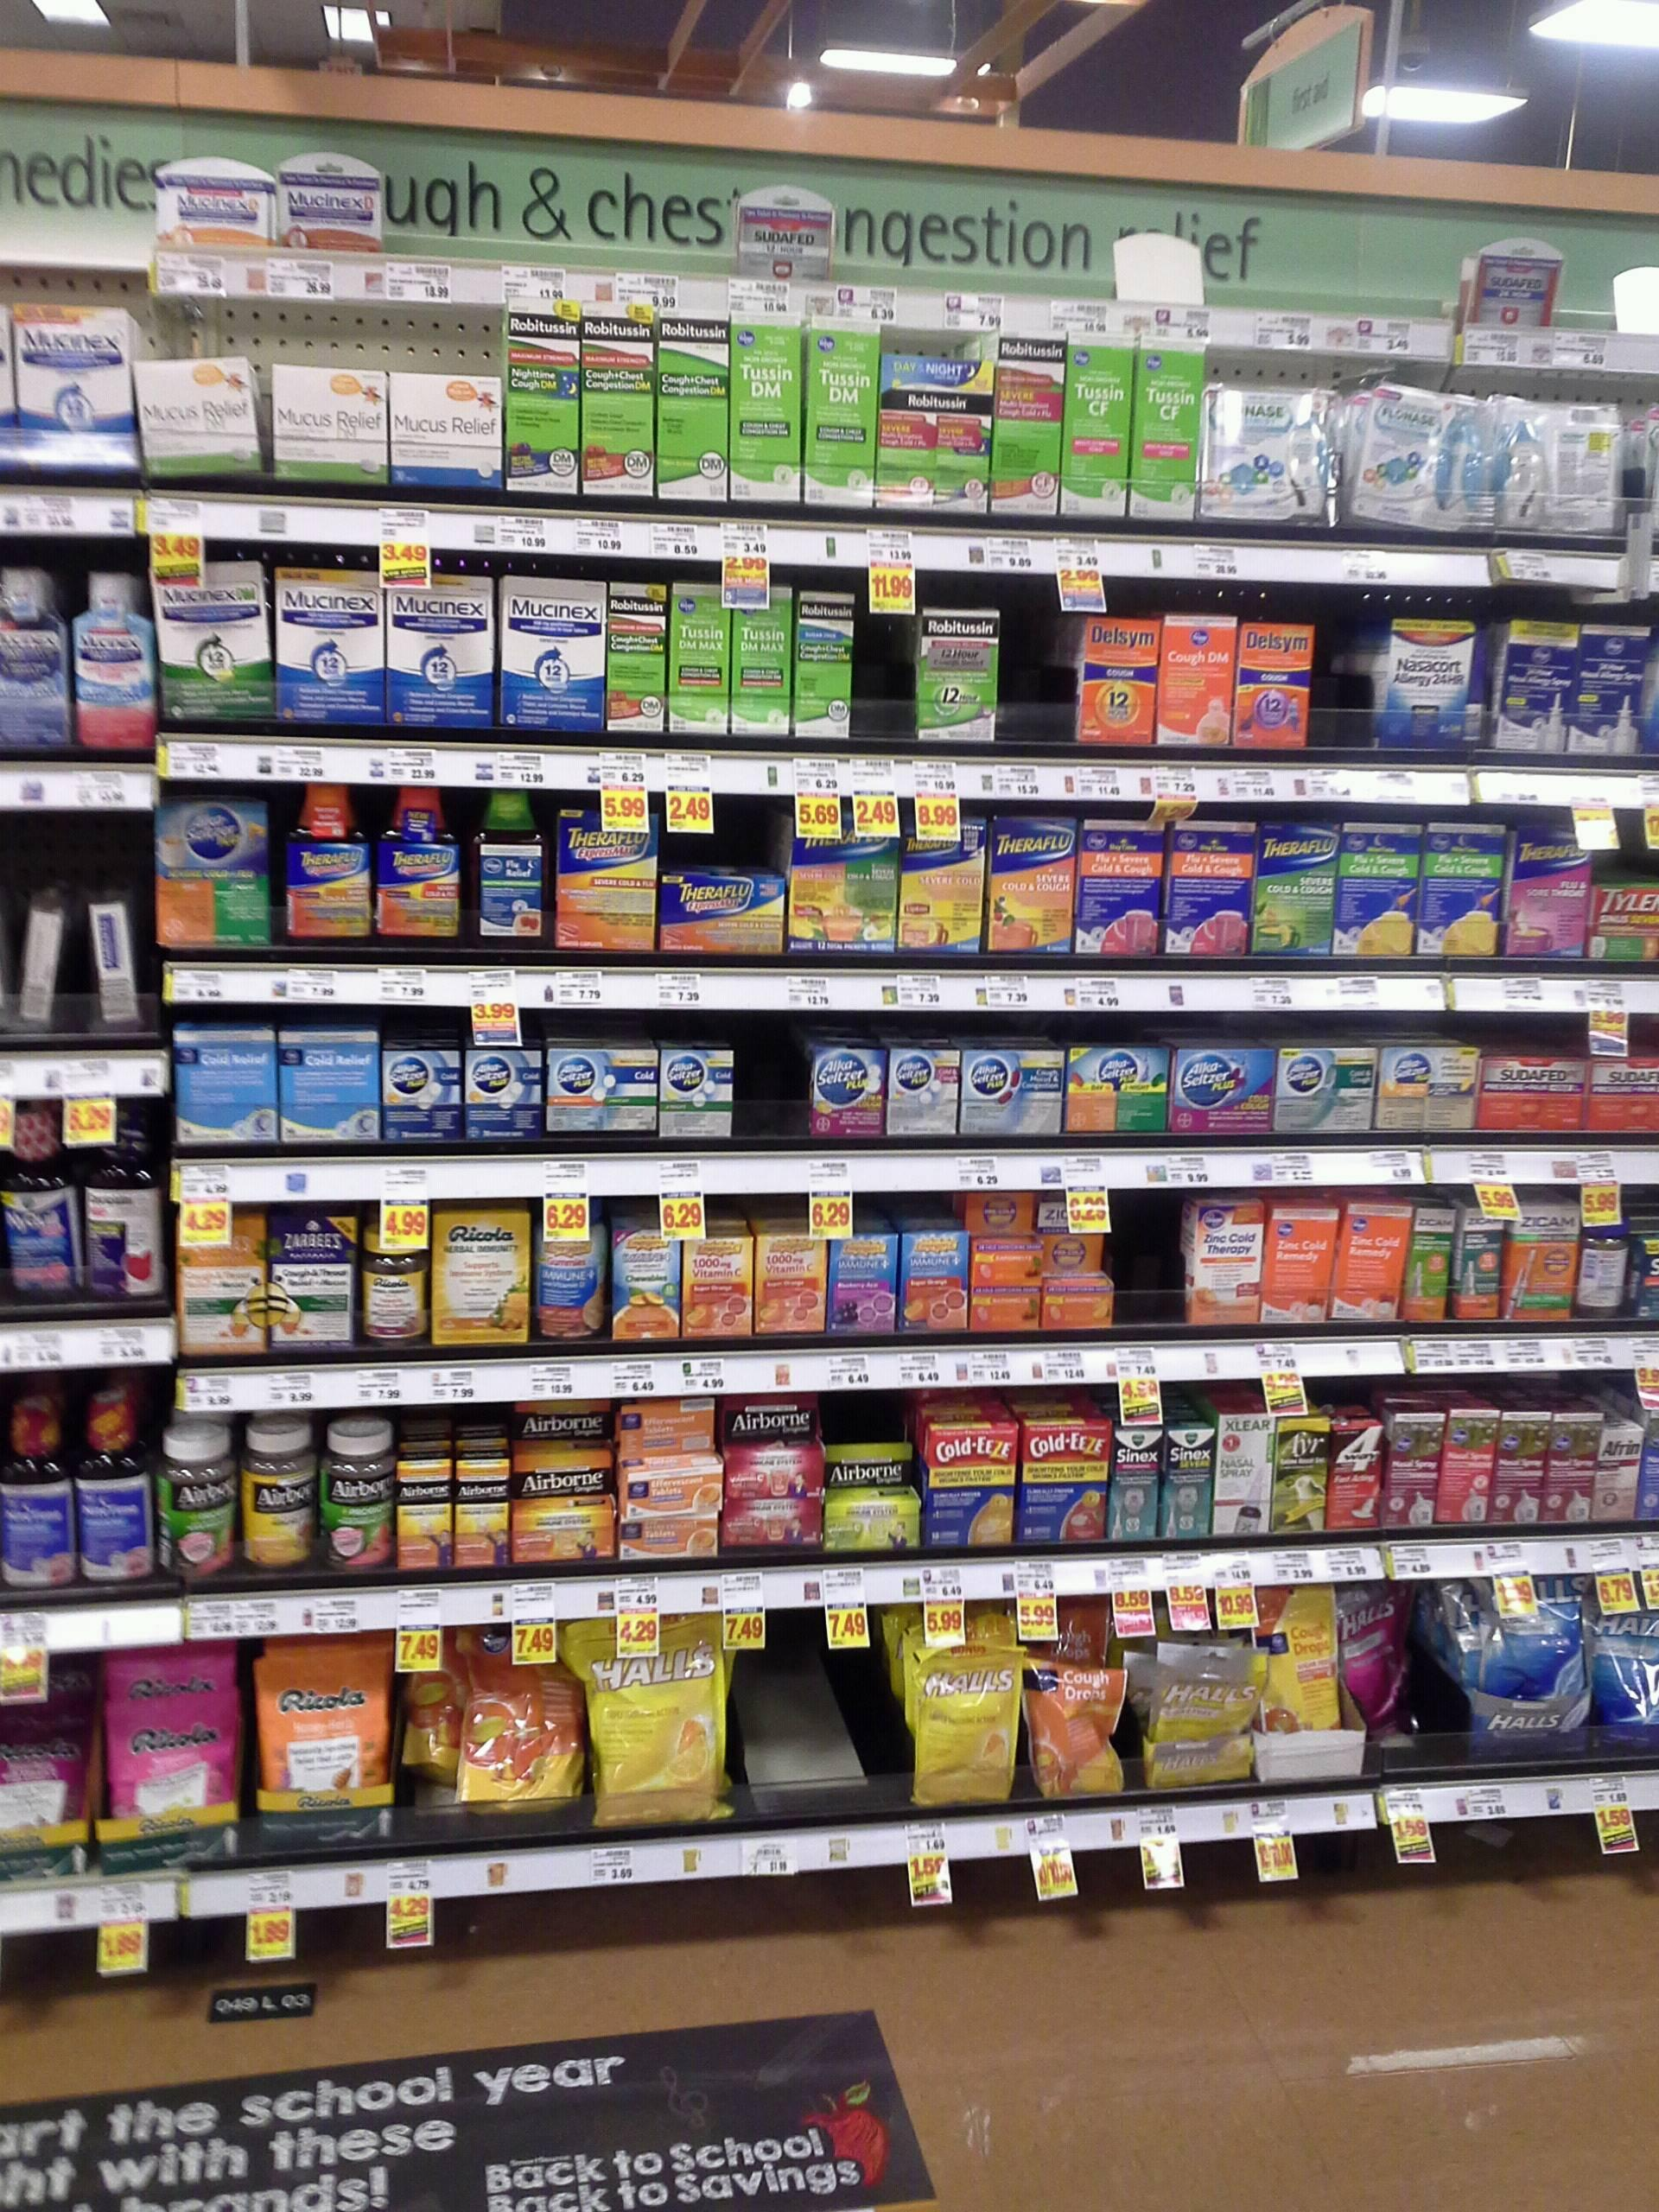empty: (734, 1660, 875, 1794), (739, 1050, 809, 1150), (1000, 650, 1070, 749), (857, 636, 915, 740), (1317, 639, 1375, 744)
